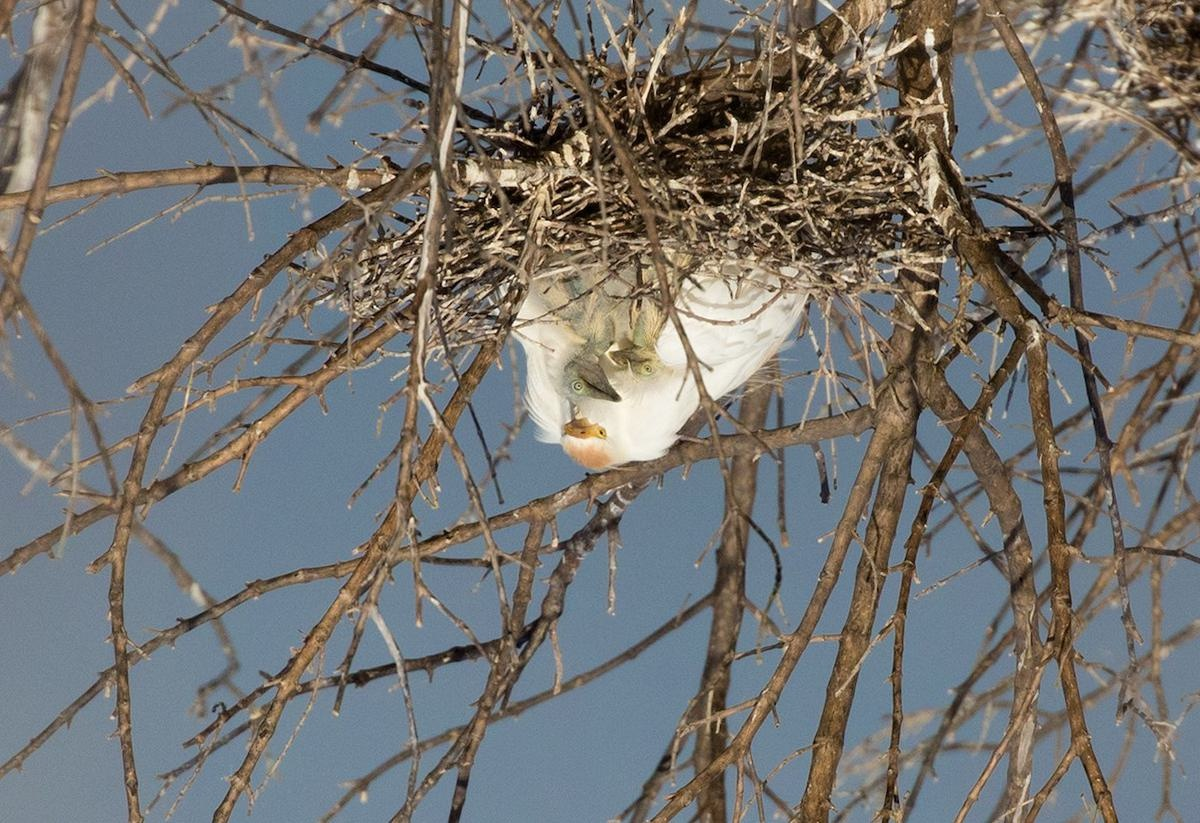egret: (524, 256, 810, 501)
